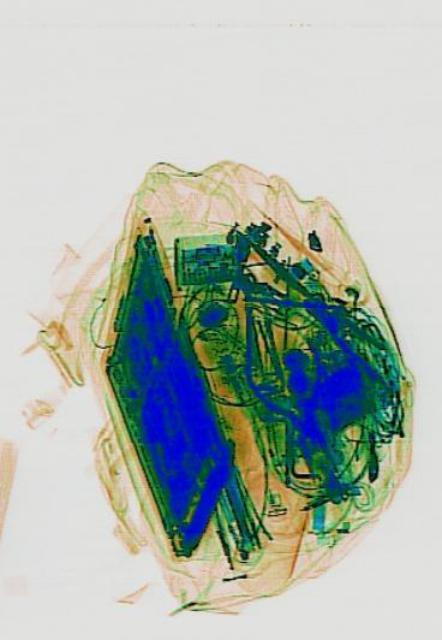Pliers: (226, 283, 349, 485)
